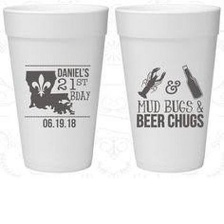paper_cup: (110, 0, 224, 178), (0, 0, 112, 177)
